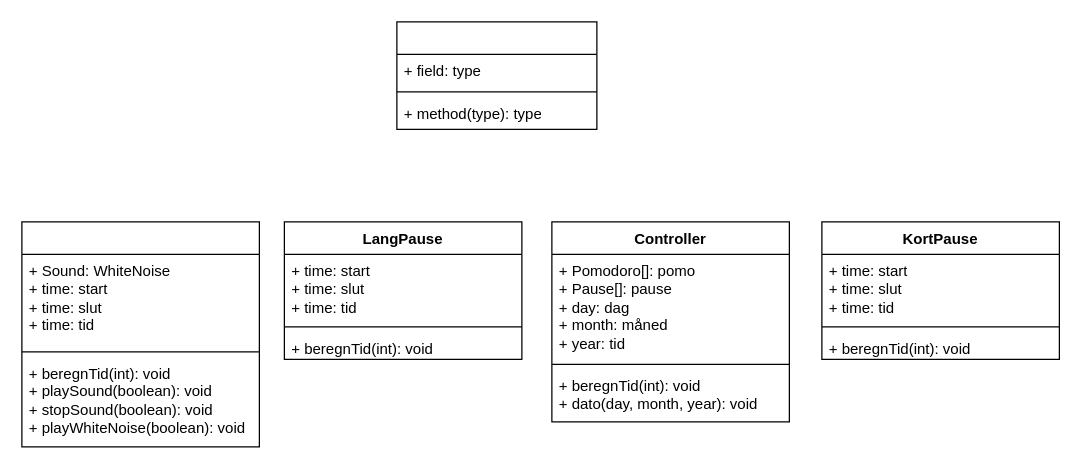
Some shapes in this 1081 by 473 pixel diagram are drawn without their labels. Here are the shapes that lost their labels. From the top down, the box of each, then its label:
(396, 21, 597, 129): Classname
(21, 221, 259, 447): Pomodoro
